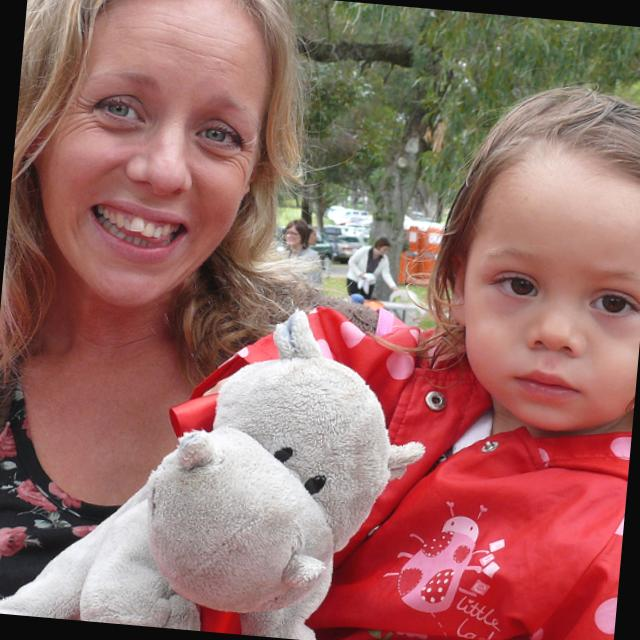Vehicle: (308, 230, 334, 270), (328, 237, 356, 264), (336, 234, 369, 249), (335, 212, 369, 226)
